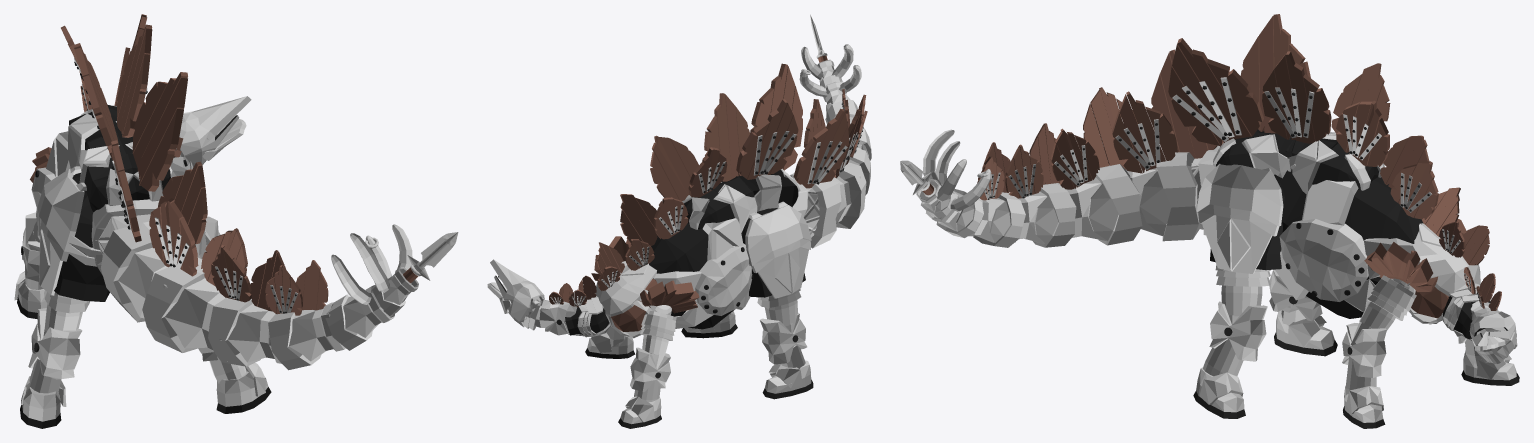
3 views of the same model, side by side, from view 1: azimuth 30°, elevation 25°; view 2: azimuth 150°, elevation 25°; view 3: azimuth 270°, elevation 25° (orthographic). The views are drawn at different scales.
Visible parts, largest first — view 1: group768443426, group671374940, group889967663, group325908748, group1564832822, group639811647, group547150215, group1634408077, group1846546652, group699810588, group13152915, group1012420290 (+24 smaller); view 2: group2070727005, group768443426, group1707670631, group1919339481, group1835902399, group1803932194, group284086628, group13152915, group1634408077, group889967663, group325908748, group639811647 (+33 smaller); view 3: group2070727005, group2138699863, group889967663, group325908748, group671374940, group13152915, group1207081446, group1919339481, group1803932194, group1564832822, group284086628, group1707670631 (+39 smaller).
Boxes of the visible parts, <box> form: group768443426: <box>37,166,109,301</box>; group671374940: <box>142,257,227,361</box>; group889967663: <box>132,72,187,191</box>; group325908748: <box>100,221,167,322</box>; group1564832822: <box>208,297,281,366</box>; group639811647: <box>79,130,170,211</box>; group547150215: <box>268,302,346,370</box>; group1634408077: <box>179,96,251,167</box>; group1846546652: <box>149,198,198,276</box>; group699810588: <box>28,308,82,379</box>; group13152915: <box>117,24,152,137</box>; group1012420290: <box>325,285,394,350</box>; group2070727005: <box>649,218,753,329</box>; group768443426: <box>742,201,811,298</box>; group1707670631: <box>736,99,798,179</box>; group1919339481: <box>595,261,657,338</box>; group1835902399: <box>793,108,849,188</box>; group1803932194: <box>682,177,757,232</box>; group284086628: <box>650,135,698,200</box>; group13152915: <box>704,93,749,181</box>; group1634408077: <box>487,259,544,322</box>; group889967663: <box>750,63,802,170</box>; group325908748: <box>790,173,860,248</box>; group639811647: <box>736,169,800,211</box>; group2070727005: <box>1275,163,1423,318</box>; group2138699863: <box>1197,163,1284,273</box>; group889967663: <box>1168,38,1263,145</box>; group325908748: <box>1126,151,1199,241</box>; group671374940: <box>1054,164,1142,245</box>; group13152915: <box>1262,51,1331,143</box>; group1207081446: <box>1112,91,1177,173</box>; group1919339481: <box>1407,223,1480,324</box>; group1803932194: <box>1285,132,1382,193</box>; group1564832822: <box>1015,183,1076,247</box>; group284086628: <box>1336,100,1389,166</box>; group1707670631: <box>1240,14,1310,133</box>.
Size of the model in its own units: 0.6312 by 0.6873 by 1.13.
